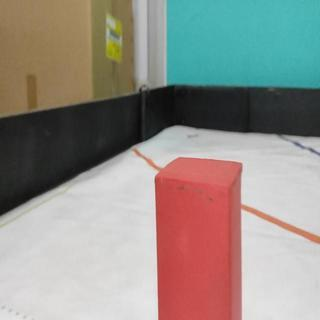redbox: (155, 156, 244, 320)
